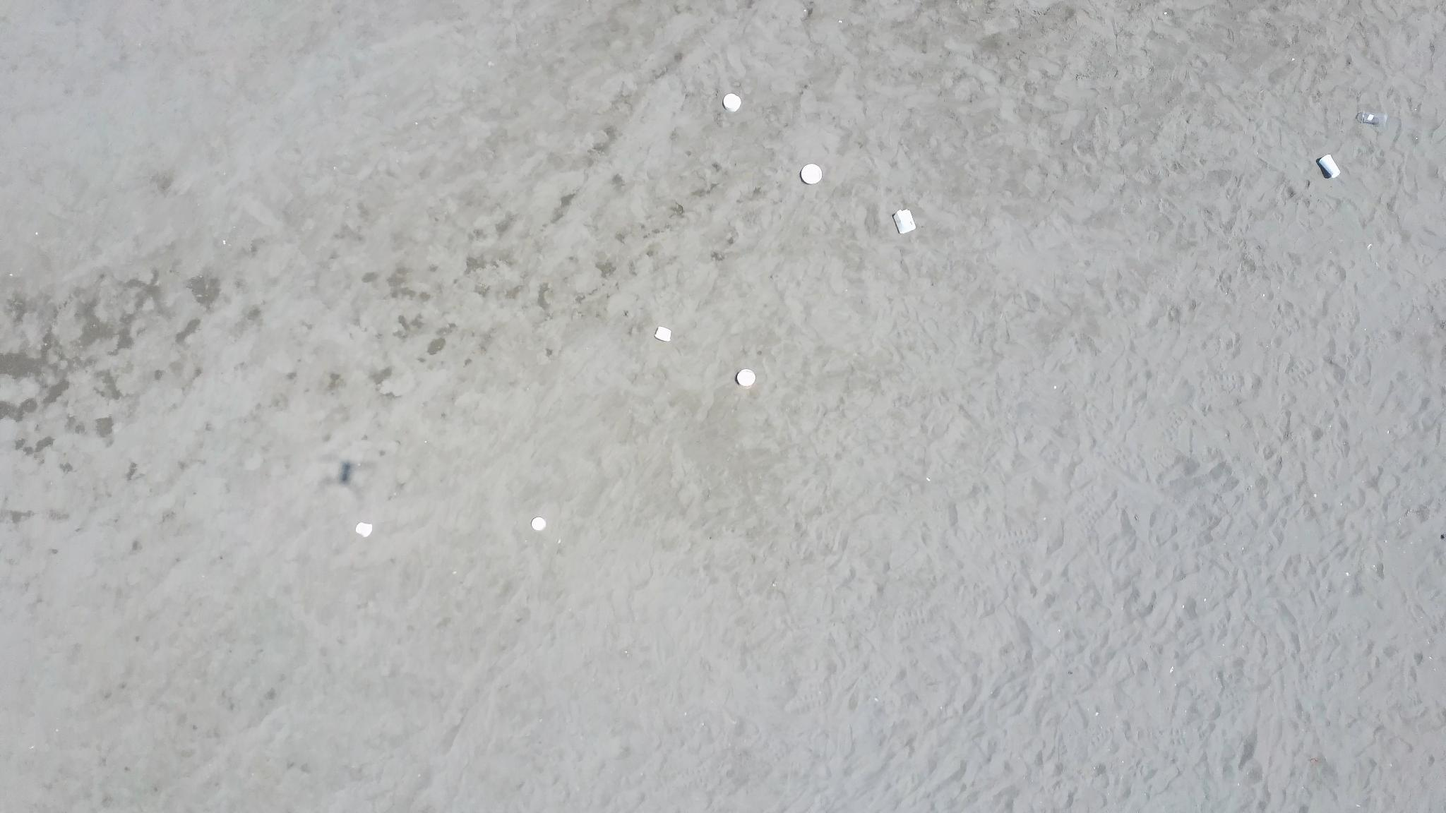Garbage: (1316, 154, 1339, 178), (893, 210, 914, 233), (1357, 110, 1387, 125), (800, 164, 822, 183), (736, 368, 754, 386), (724, 92, 740, 111), (339, 460, 352, 483), (655, 325, 670, 342), (355, 522, 370, 536), (532, 517, 546, 531)
